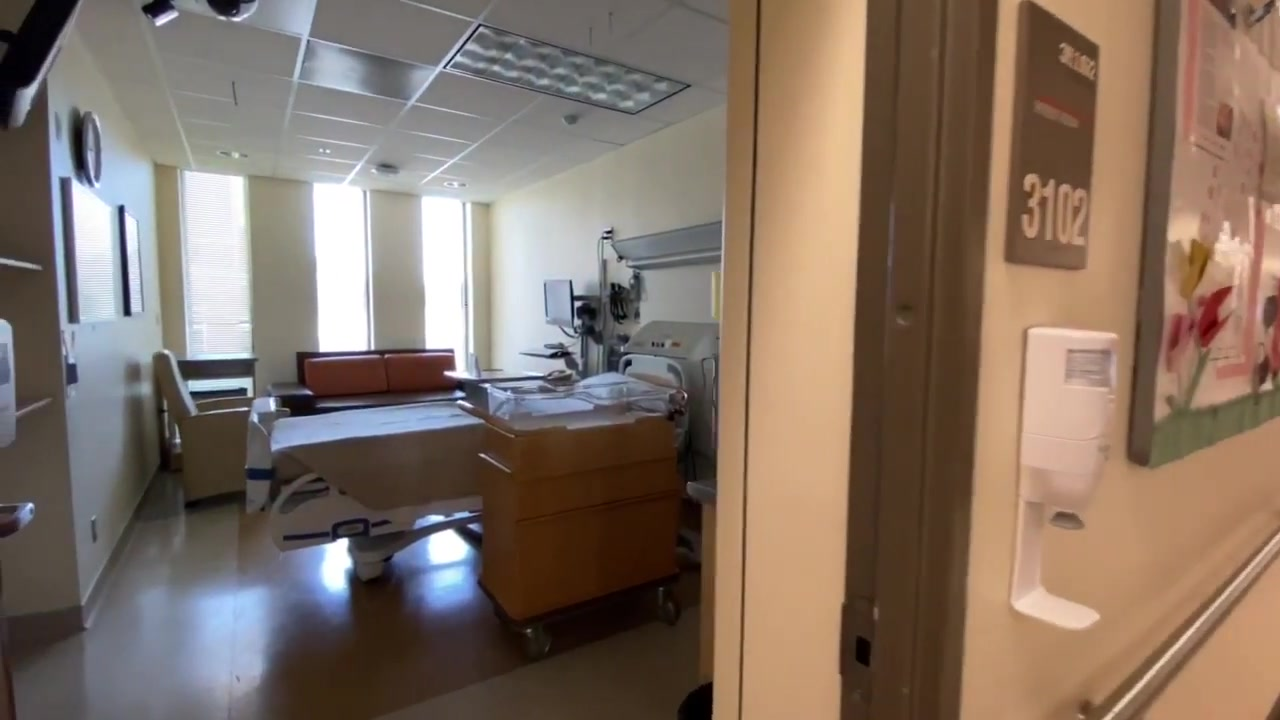bedrail: (265, 470, 373, 548)
computer: (539, 276, 576, 328)
dispenser: (1002, 319, 1125, 640)
door_handle: (1, 496, 40, 543)
foot_board: (243, 391, 280, 516)
hallway_assist_bar: (1061, 500, 1280, 720)
hospital_bed: (248, 348, 688, 582)
sofa: (148, 349, 292, 514), (266, 346, 466, 416)
